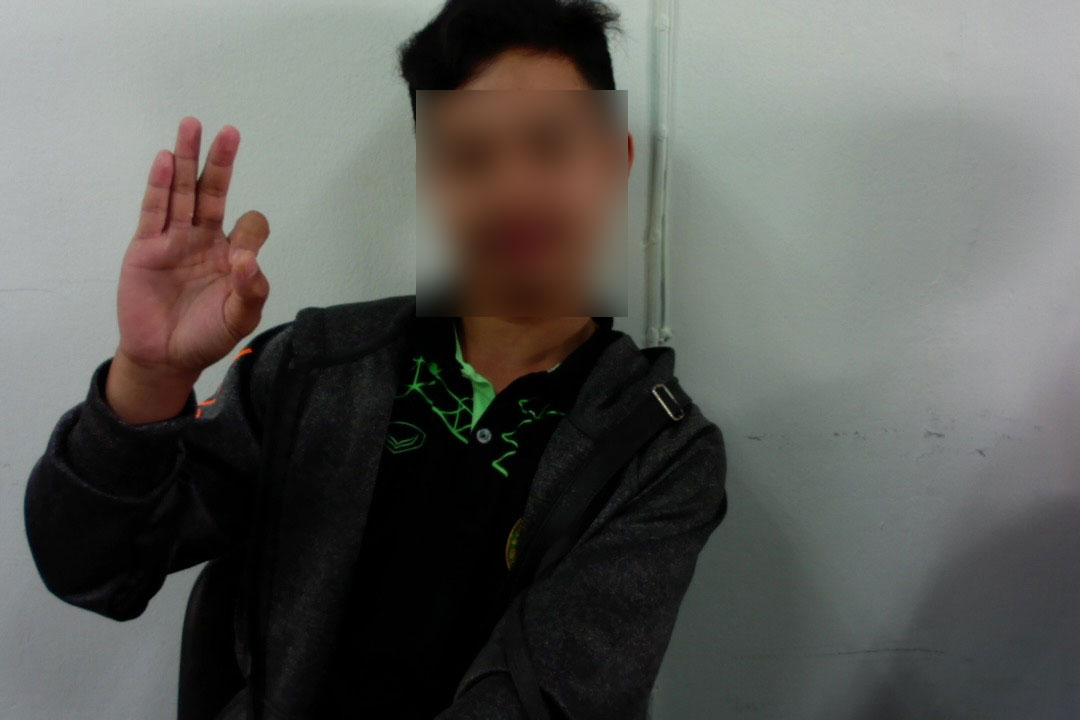for: (105, 110, 273, 381)
